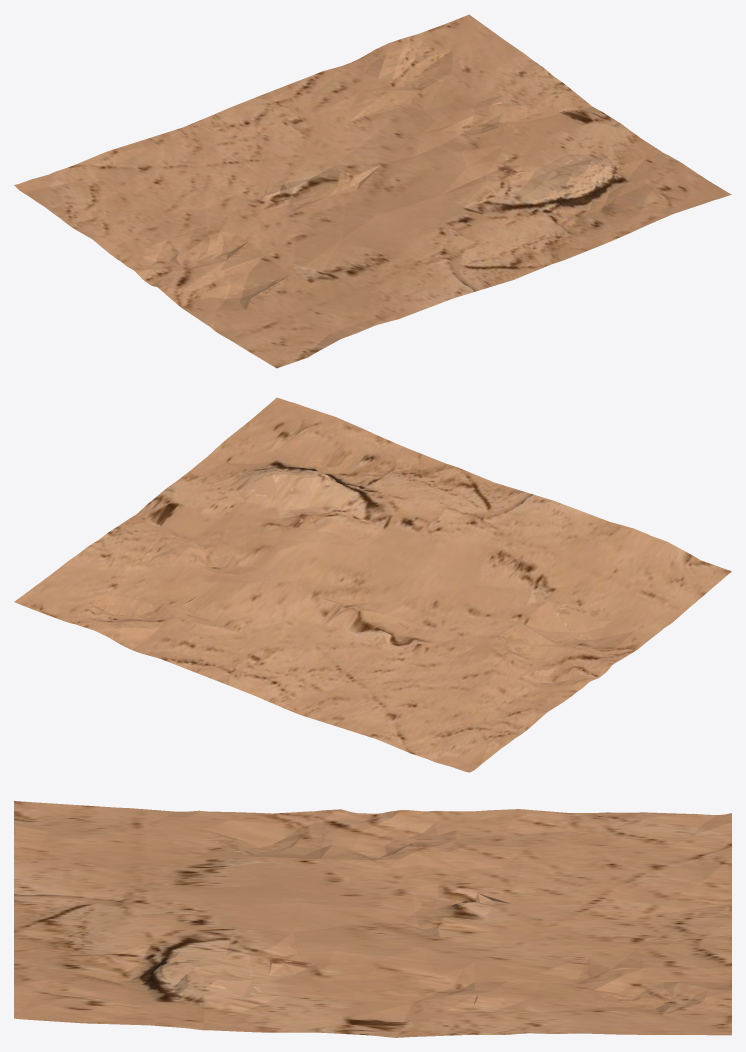
3 renders of one model, top to bottom at view 1: azimuth 30°, elevation 25°; view 2: azimuth 150°, elevation 25°; view 3: azimuth 270°, elevation 25°, orthographic. The views are drawn at different scales.
Size of the model in its own units: 1.04 by 0.1604 by 1.04.
2 materials, 2 textured.
